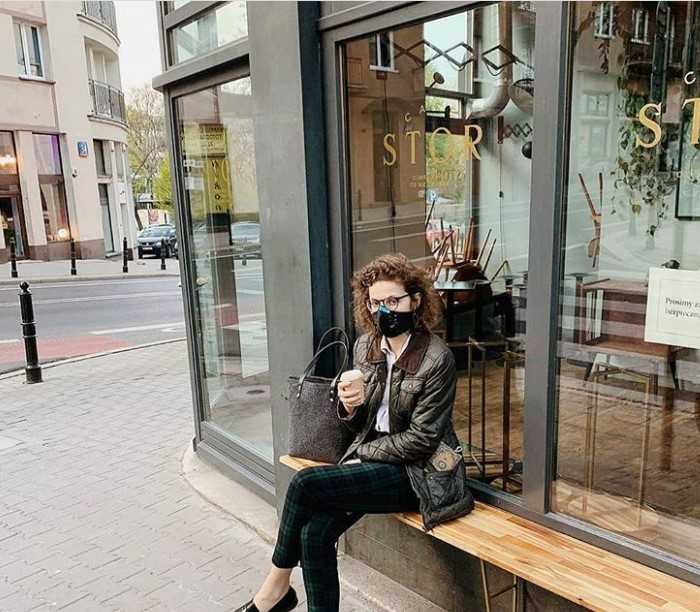face_with_mask: (351, 257, 435, 337)
